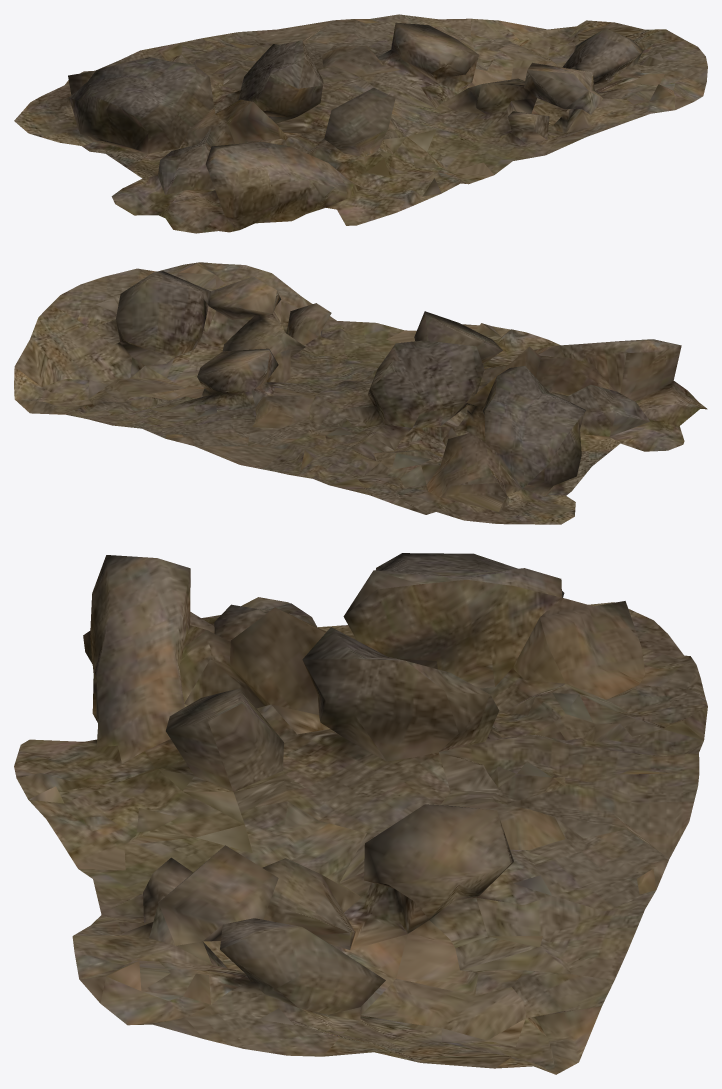
3 renders of one model, top to bottom at view 1: azimuth 30°, elevation 25°; view 2: azimuth 150°, elevation 25°; view 3: azimuth 270°, elevation 25°, orthographic. The views are drawn at different scales.
Parts seen in each view (by area): view 1: coast_land_rocks_03; view 2: coast_land_rocks_03; view 3: coast_land_rocks_03.
Boxes of the visible parts, x1,y1,x2,y2 form: coast_land_rocks_03: (14,14,707,233); coast_land_rocks_03: (14,262,707,524); coast_land_rocks_03: (14,553,707,1074).
Bounding box in the file's own units: 8.99 × 1.47 × 5.62.
Materials: 1 (1 with a texture image).
